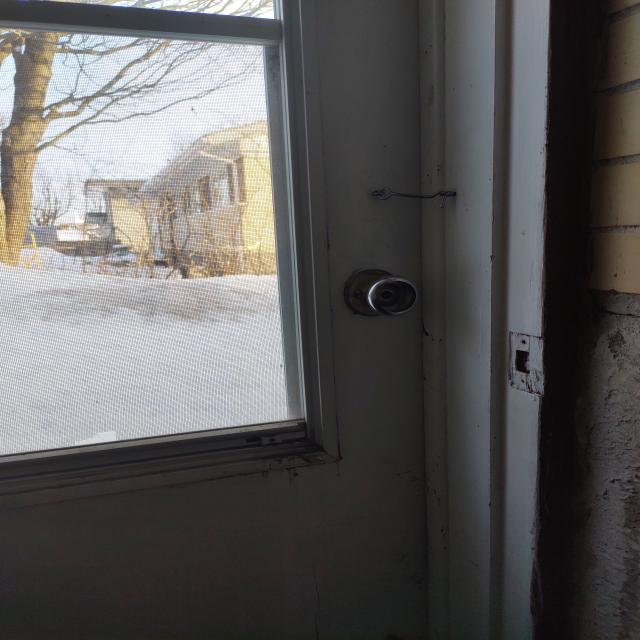door-knob: (344, 269, 419, 316)
